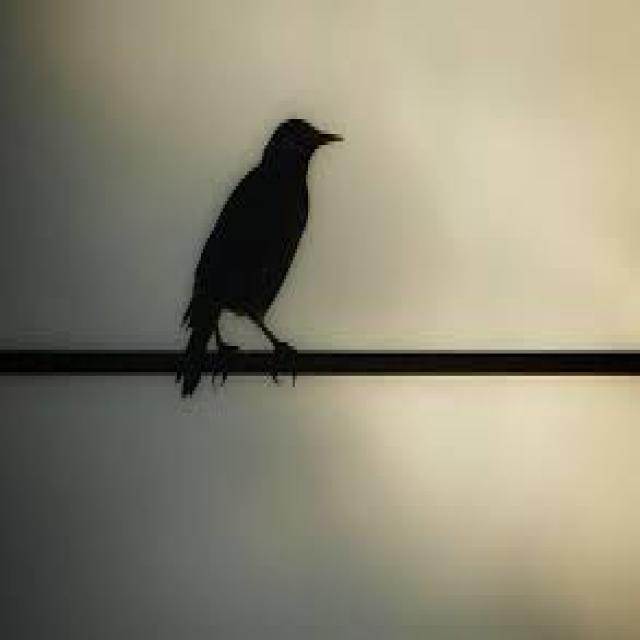bird: (154, 99, 372, 426)
